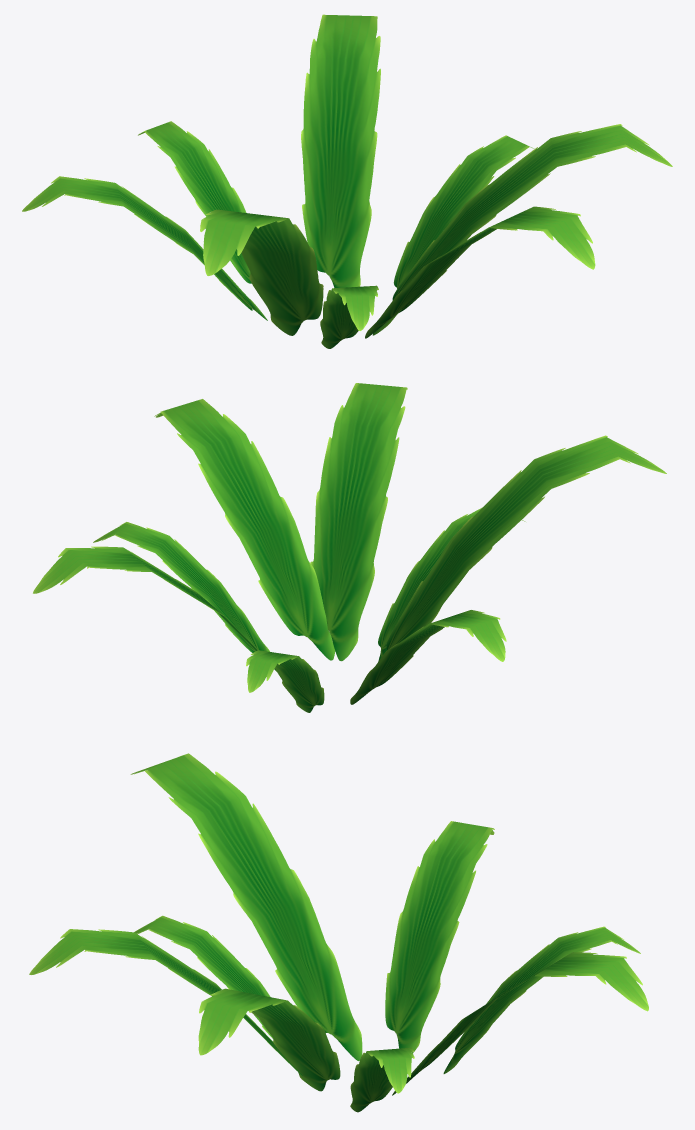
File: Grass04.FBX
3 views of the same model, one above another, from view 1: azimuth 30°, elevation 25°; view 2: azimuth 150°, elevation 25°; view 3: azimuth 270°, elevation 25° (orthographic). The views are drawn at different scales.
Parts seen in each view (by area): view 1: Flower01; view 2: Flower01; view 3: Flower01.
Boxes of the visible parts, bbox=[...] form: Flower01: bbox=[22, 14, 672, 348]; Flower01: bbox=[33, 383, 666, 712]; Flower01: bbox=[29, 753, 648, 1112].
Bounding box in the file's own units: 9.39 × 3.7 × 9.85.
